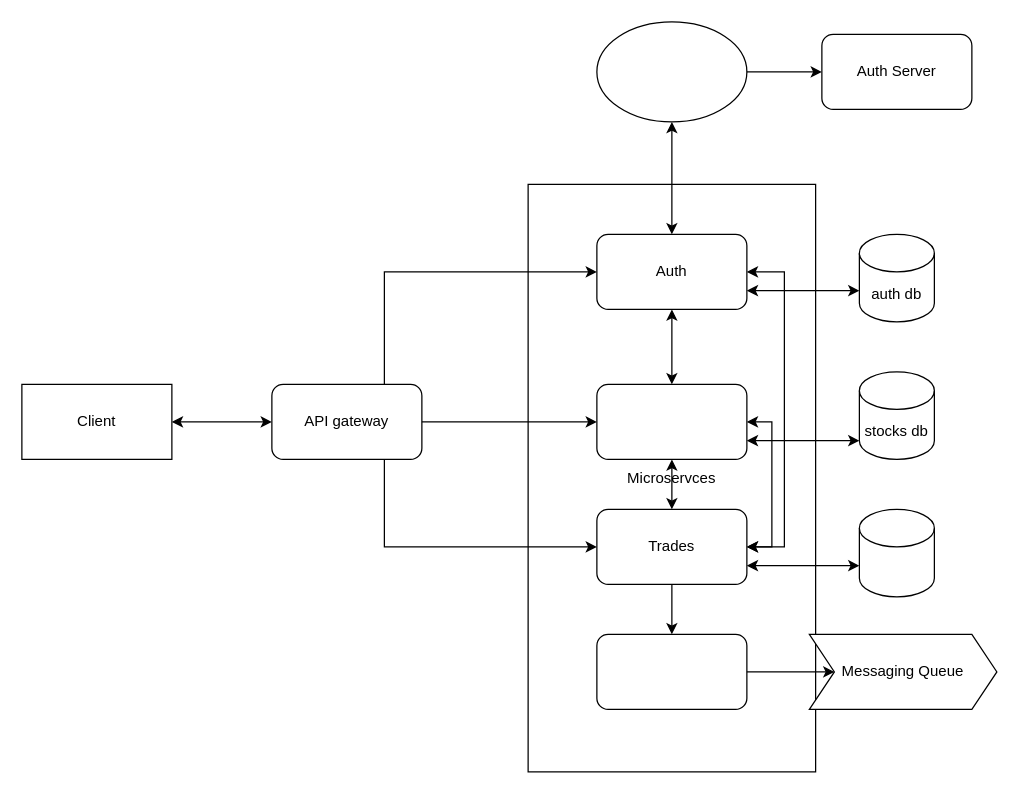
The diagram is 1019 pixels wide and 794 high, and some of its shapes have lost their labels. The box of each missing label's shape, as (x1, y1, x2, y2) in pixels:
OIDC: (596, 21, 747, 122)
Publisher: (596, 633, 747, 709)
Stocks: (596, 383, 747, 459)
trades db: (858, 508, 934, 597)
